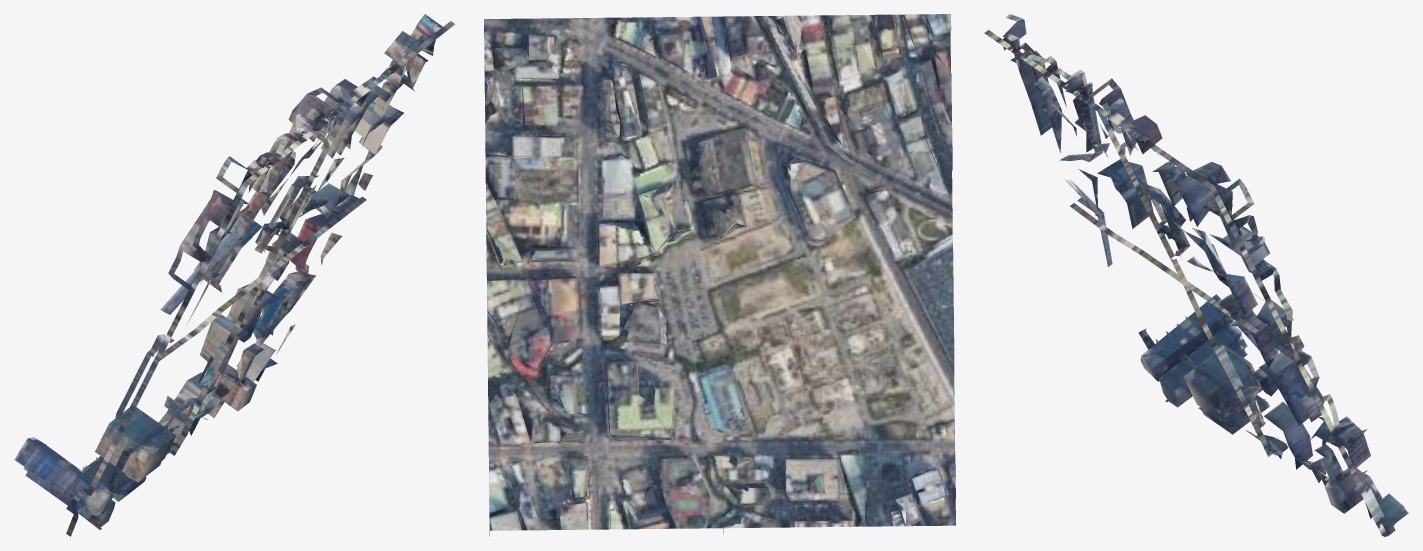
3 views of the same model, side by side, from view 1: azimuth 30°, elevation 25°; view 2: azimuth 150°, elevation 25°; view 3: azimuth 270°, elevation 25° (orthographic). The views are drawn at different scales.
Size of the model in its own units: 642 by 580 by 544.
Materials: 2 (2 with a texture image).
